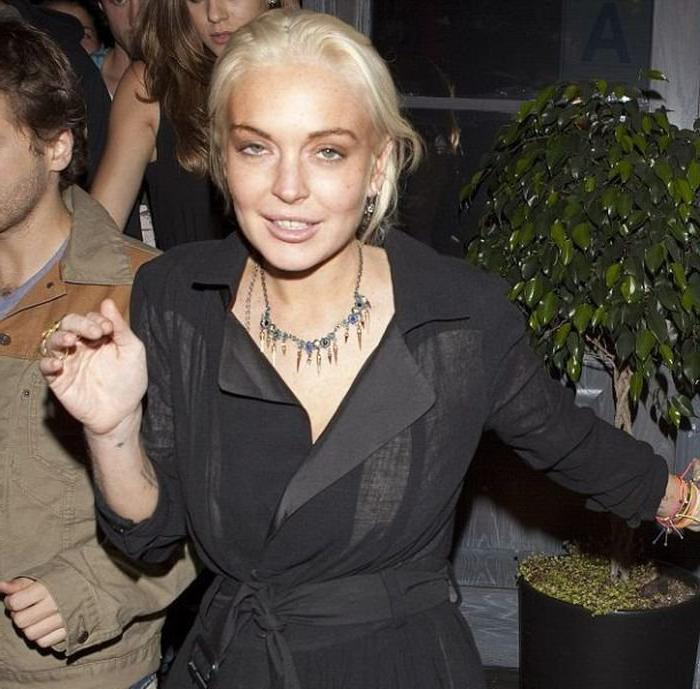Drunk: (223, 66, 359, 272)
